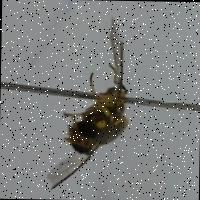Oriental-fruit-fly: (43, 19, 143, 200)
